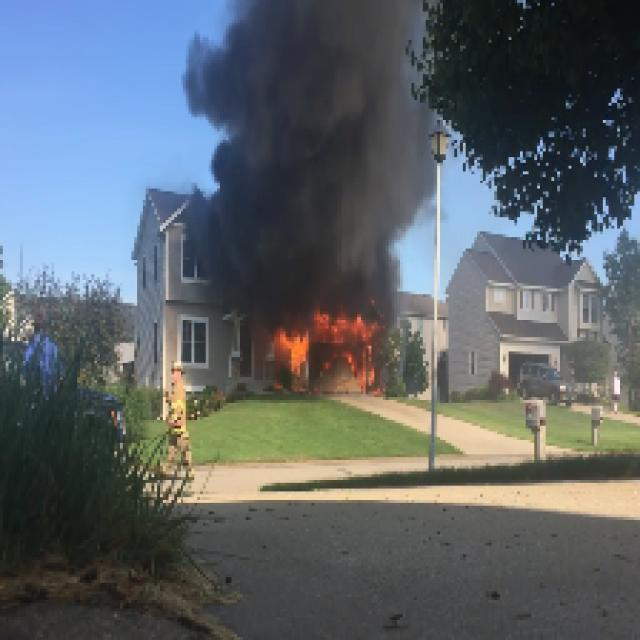Fire: (266, 334, 314, 364)
Smoke: (236, 28, 396, 296)
